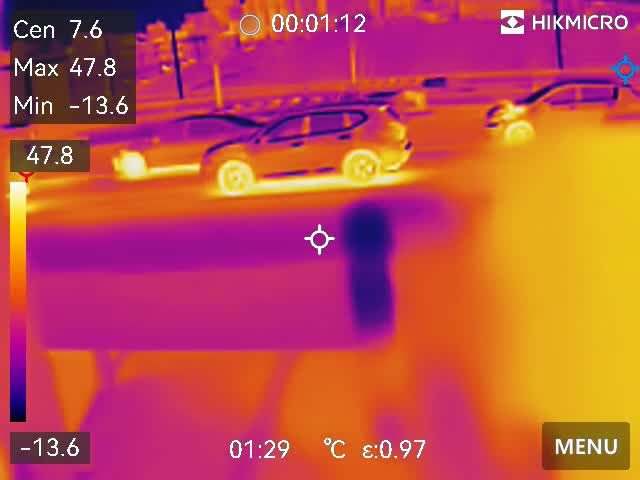largeCar: (196, 104, 424, 193)
smallCar: (482, 67, 640, 134), (104, 115, 254, 169)
